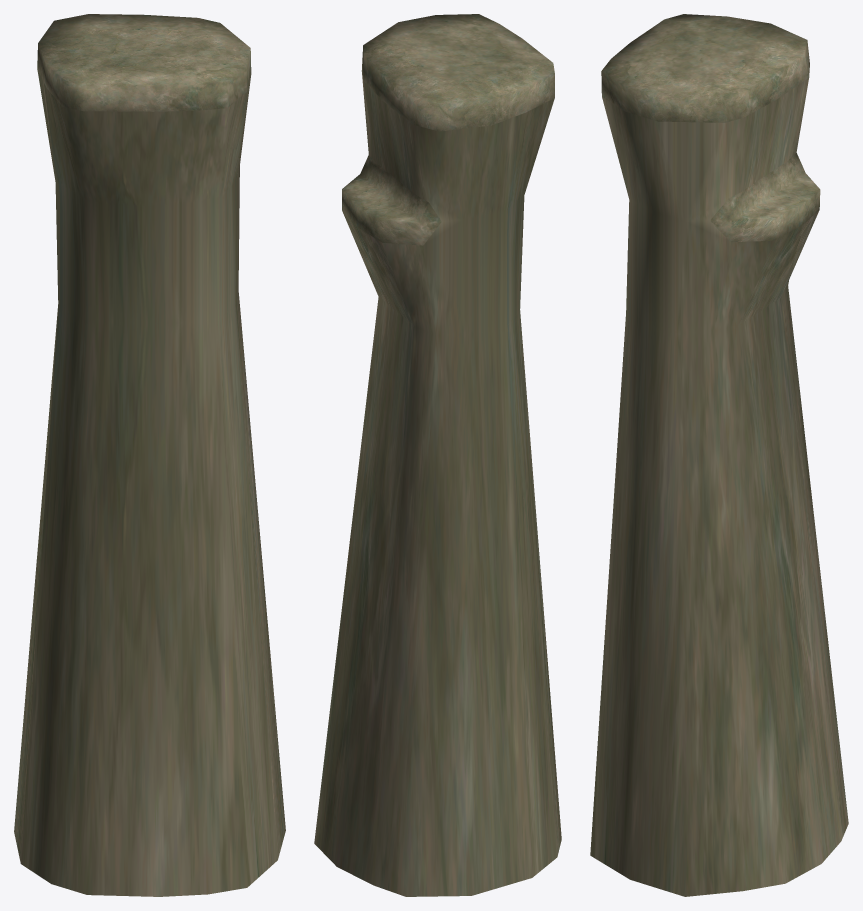
The model's file is OVERHILL_A_01_OH_B_OBJECT22.fbx.
The picture shows the model from 3 angles, left to right: view 1: azimuth 30°, elevation 25°; view 2: azimuth 150°, elevation 25°; view 3: azimuth 270°, elevation 25°; orthographic projection. The views are drawn at different scales.
Visible parts, largest first — view 1: OVERHILL_A_01_OH_B_OBJECT22; view 2: OVERHILL_A_01_OH_B_OBJECT22; view 3: OVERHILL_A_01_OH_B_OBJECT22.
Part boxes in pixels (box(x1,y1,x2,y2)): OVERHILL_A_01_OH_B_OBJECT22: box(14, 14, 285, 896); OVERHILL_A_01_OH_B_OBJECT22: box(314, 14, 561, 896); OVERHILL_A_01_OH_B_OBJECT22: box(590, 14, 848, 896).
Size of the model in its own units: 38132 by 126275 by 37883.
Materials: 1 (1 with a texture image).
